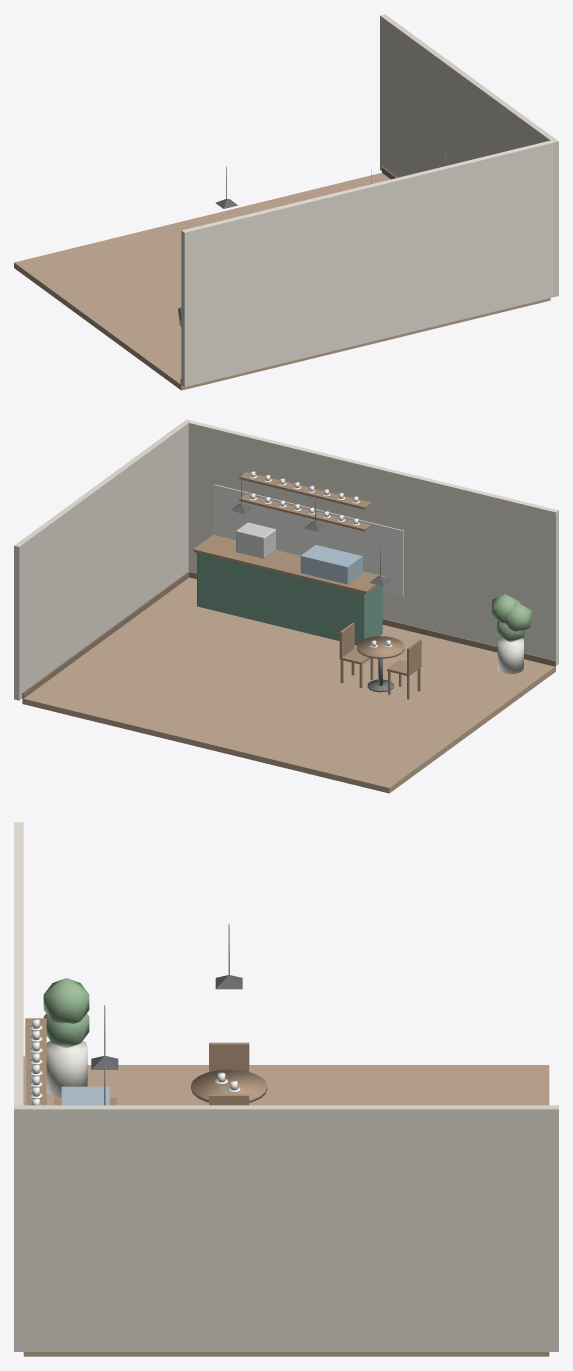
The model's file is salida.cafe.fbx.
3 views of the same model, one above another, from view 1: azimuth 30°, elevation 25°; view 2: azimuth 150°, elevation 25°; view 3: azimuth 270°, elevation 25° (orthographic). The views are drawn at different scales.
Visible parts, largest first — view 1: Muro del fondo, Piso, Muro lateral; view 2: Piso, Muro del fondo, Muro lateral, Mesón, Azulejos, Cubierta del mesón, Vitrina, Zócalo.001, Máquina de espresso, Zócalo, Repisa.001, Repisa (+4 smaller); view 3: Muro lateral, Piso, Muro del fondo, Macetero, Planta.002, Cubierta, Repisa.001, Respaldo.001, Planta, Vitrina.
Part boxes in pixels (x1=…): Muro del fondo: x1=181, y1=140, x2=553, y2=387; Piso: x1=14, y1=173, x2=550, y2=390; Muro lateral: x1=380, y1=14, x2=558, y2=296; Piso: x1=22, y1=577, x2=555, y2=793; Muro del fondo: x1=188, y1=421, x2=558, y2=665; Muro lateral: x1=14, y1=419, x2=191, y2=700; Mesón: x1=197, y1=553, x2=382, y2=645; Azulejos: x1=214, y1=484, x2=403, y2=596; Cubierta del mesón: x1=193, y1=534, x2=386, y2=593; Vitrina: x1=300, y1=545, x2=362, y2=584; Zócalo.001: x1=22, y1=571, x2=189, y2=698; Máquina de espresso: x1=236, y1=522, x2=275, y2=558; Zócalo: x1=189, y1=571, x2=555, y2=666; Repisa.001: x1=239, y1=472, x2=371, y2=509; Repisa: x1=239, y1=494, x2=371, y2=531; Muro lateral: x1=14, y1=1105, x2=558, y2=1351; Piso: x1=23, y1=1065, x2=549, y2=1356; Muro del fondo: x1=14, y1=822, x2=23, y2=1105; Macetero: x1=46, y1=1040, x2=87, y2=1097; Planta.002: x1=43, y1=978, x2=89, y2=1023; Cubierta: x1=191, y1=1069, x2=267, y2=1102; Repisa.001: x1=25, y1=1018, x2=46, y2=1105; Respaldo.001: x1=209, y1=1042, x2=249, y2=1071; Planta: x1=43, y1=1013, x2=89, y2=1047; Vitrina: x1=61, y1=1086, x2=109, y2=1105.
Bounding box in the file's own units: 7.1 × 2.9 × 5.7.
